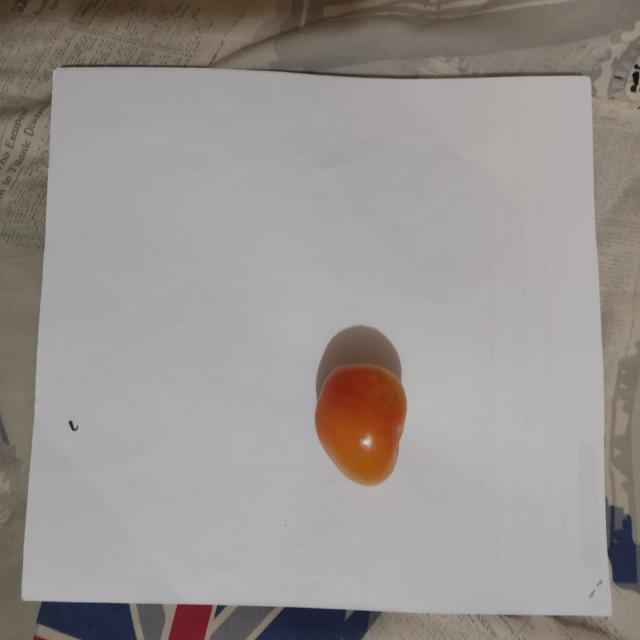kirmizi: (282, 334, 470, 496)
